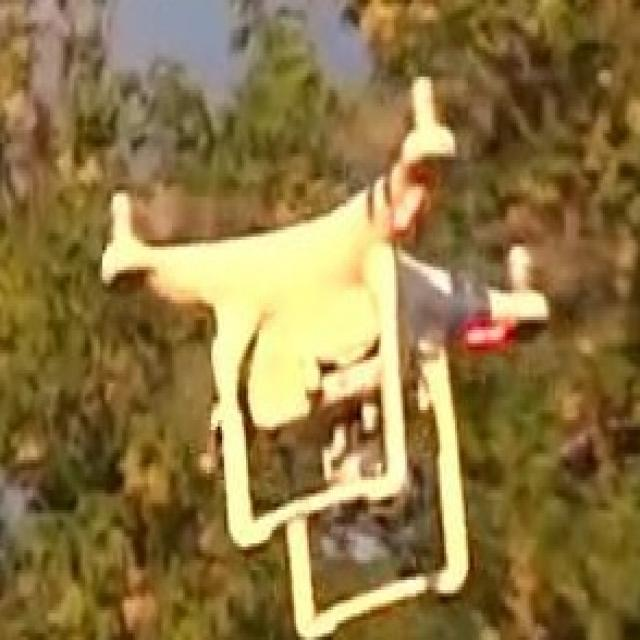drone: (52, 59, 575, 638)
